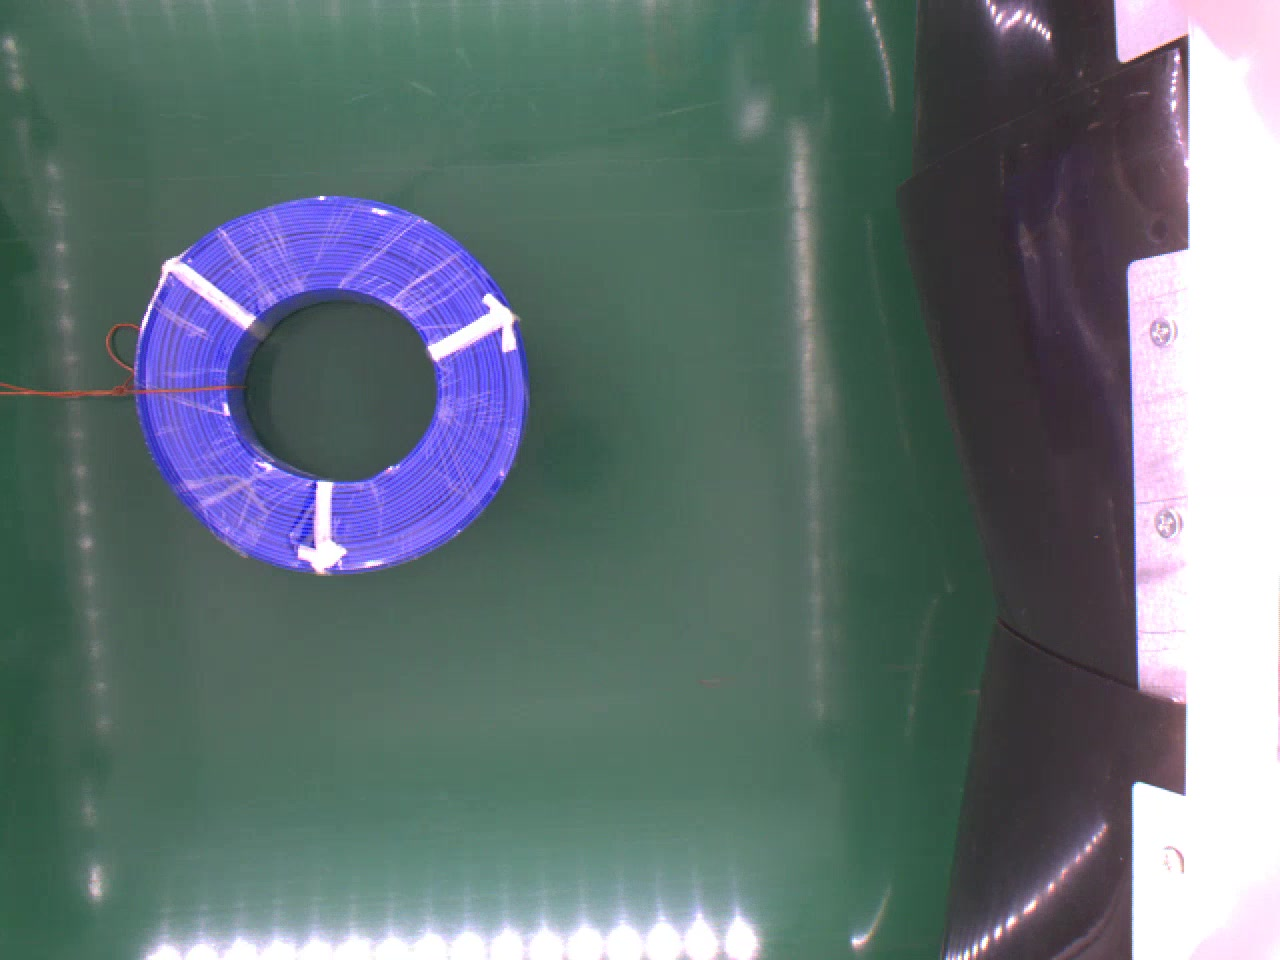blue: (135, 192, 527, 570)
